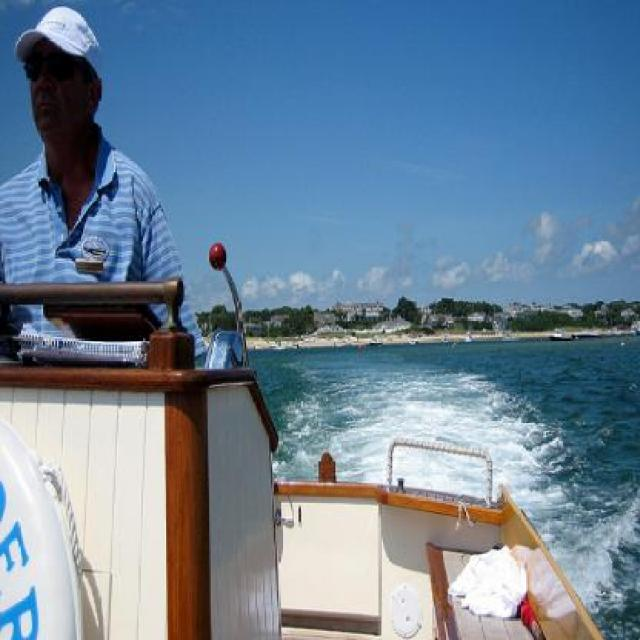ship: (547, 324, 561, 339), (500, 328, 517, 340), (367, 335, 381, 343), (408, 335, 417, 343), (439, 334, 447, 343), (290, 340, 298, 348), (463, 332, 471, 340)
